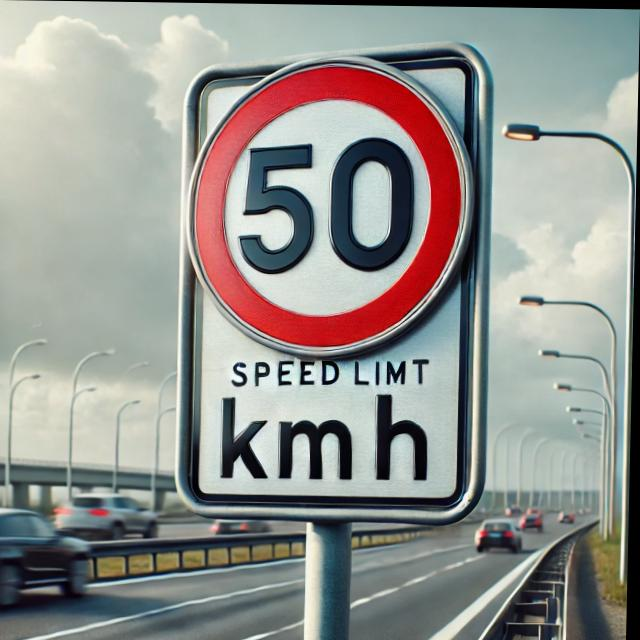Speed limit 50: (185, 53, 479, 359)
